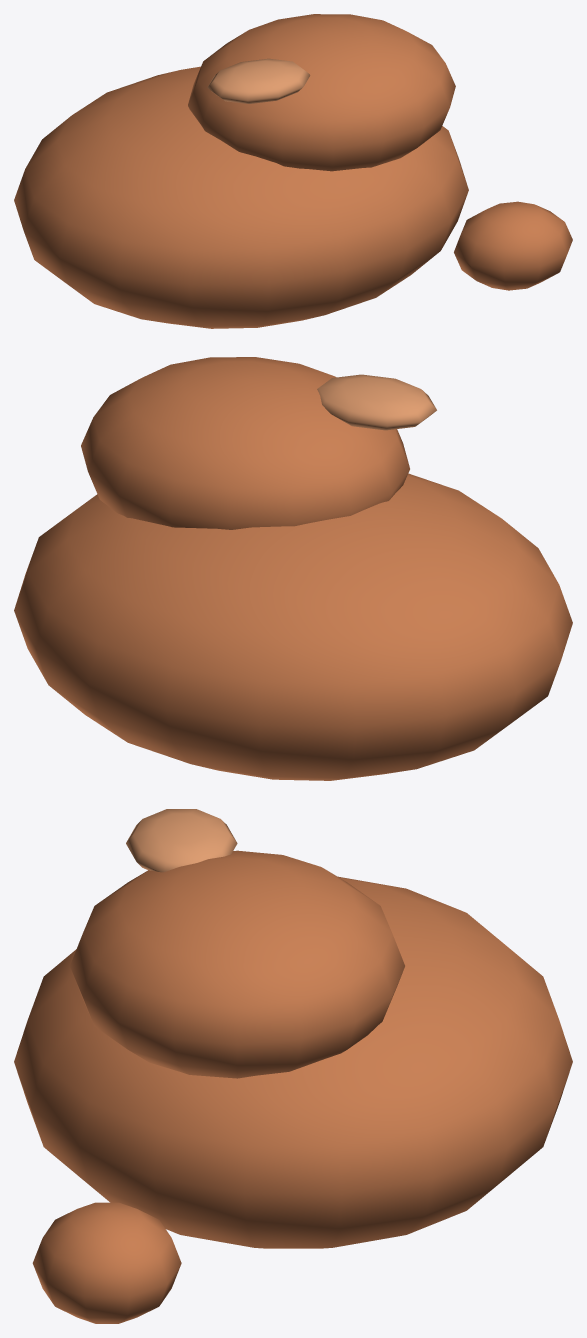
The model's file is mat-clay.glb.
3 renders of one model, top to bottom at view 1: azimuth 30°, elevation 25°; view 2: azimuth 150°, elevation 25°; view 3: azimuth 270°, elevation 25°, orthographic. The views are drawn at different scales.
Parts seen in each view (by area): view 1: mat; view 2: mat; view 3: mat.
Part boxes in pixels (x1,y1,x2,y2): mat: (14, 14, 572, 328); mat: (14, 357, 572, 780); mat: (14, 809, 572, 1323).
Bounding box in the file's own units: 0.3802 × 0.21 × 0.3.
